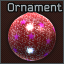Christmas tree ornament Red: (0, 0, 64, 64)
